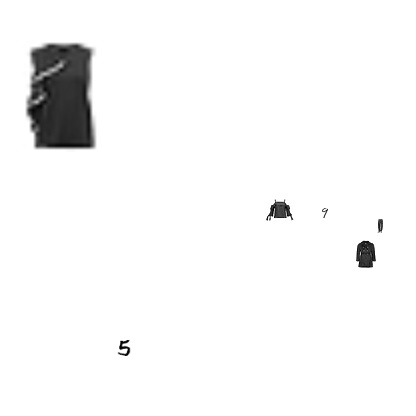5: (113, 337, 135, 359)
9: (318, 205, 332, 219)
Coat: (352, 240, 380, 268)
Shirt: (266, 196, 294, 224)
T-shirt/top: (3, 40, 115, 152)
Trouser: (373, 219, 387, 233)
